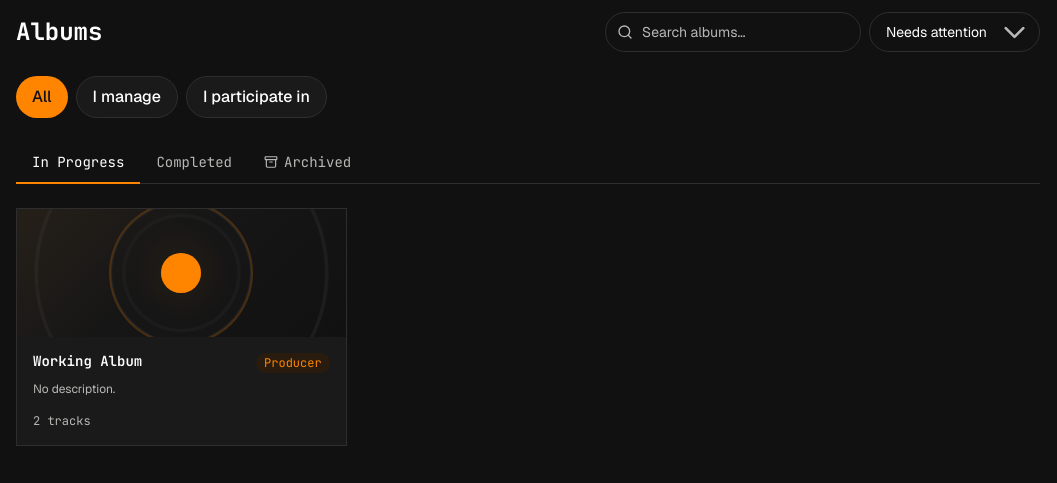
Scenario: AlbumsView › separates completed and archived albums and updates classification after reload
Expected: the headings read "Working Album", in this order, [33,353,142,370]
Click the button "Completed" at (194, 163), box [140,142,248,184]
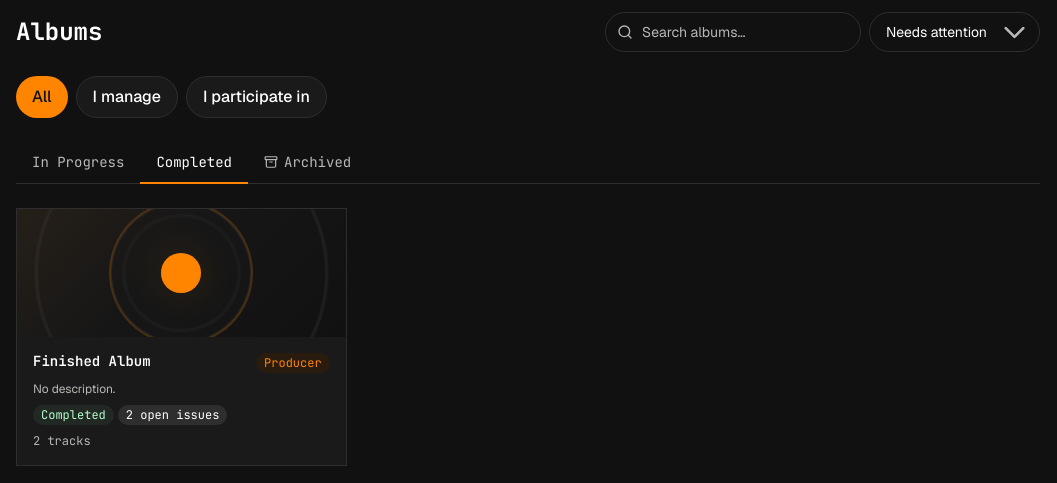
Result: the headings read "Finished Album", in this order at [33,353,151,370]
Result: the text "Completed" is shown at [33,405,114,425]
Result: the text "2 open issues" is shown at [118,405,227,425]
Click the button "Archived" at (308, 163), box [248,142,367,184]
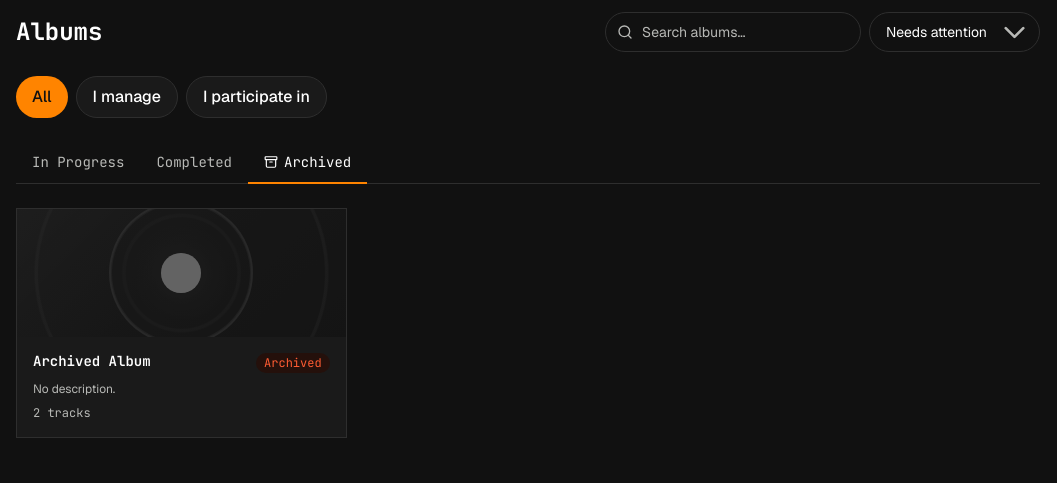
Result: the headings read "Archived Album", in this order at [33,353,151,370]
Click the button "Completed" at (194, 163), box [140,142,248,184]
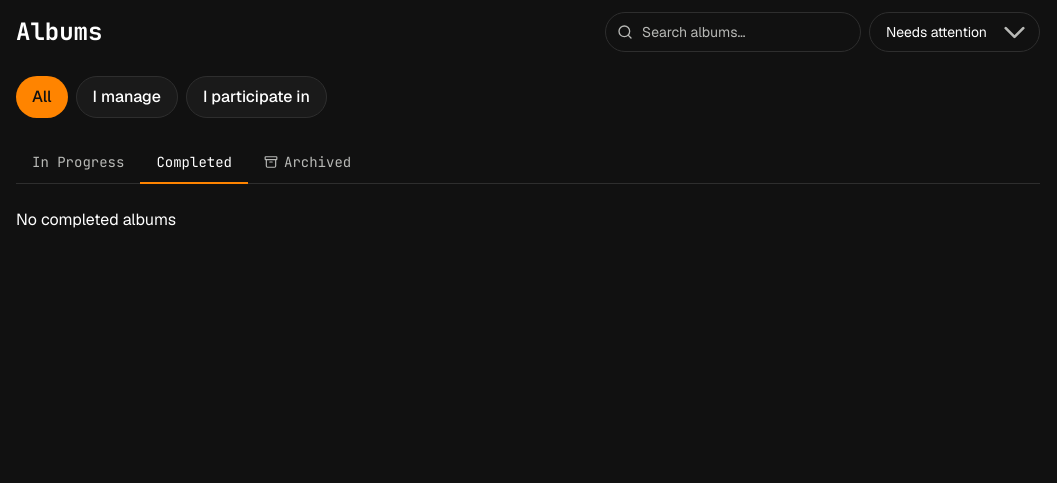
Result: the text "No completed albums" is shown at [16,209,176,230]
Click the button "In Progress" at (78, 163), box [16,142,140,184]
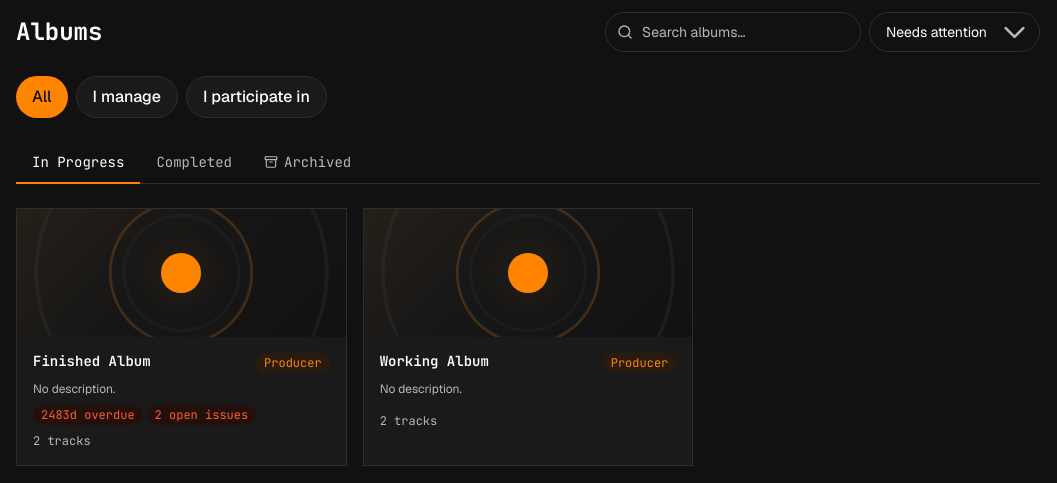
Result: the heading "Finished Album" is shown at [33,353,151,370]
Result: the text "overdue" is shown at [41,407,135,423]
Click the button "Completed" at (194, 163), box [140,142,248,184]
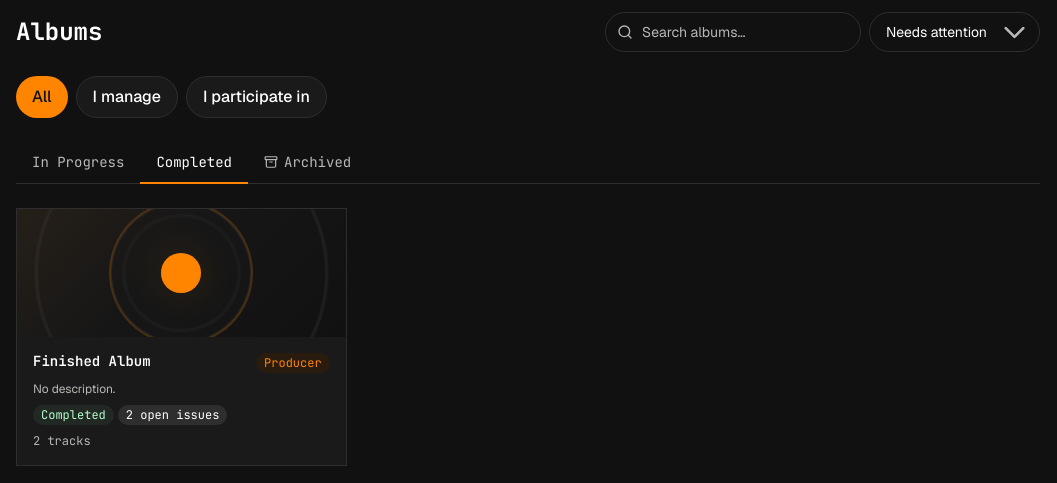
Result: the headings read "Finished Album", in this order at [33,353,151,370]
